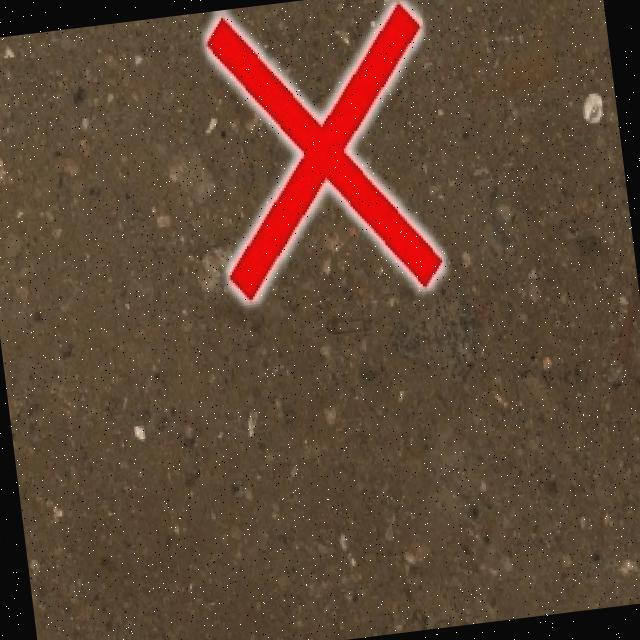x_marker: (197, 0, 449, 308)
